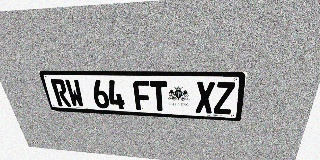4: (105, 80, 125, 109)
6: (90, 80, 110, 109)
F: (133, 80, 152, 111)
R: (50, 79, 72, 107)
T: (150, 81, 168, 111)
W: (64, 79, 85, 107)
X: (195, 81, 215, 114)
Z: (214, 82, 235, 114)
